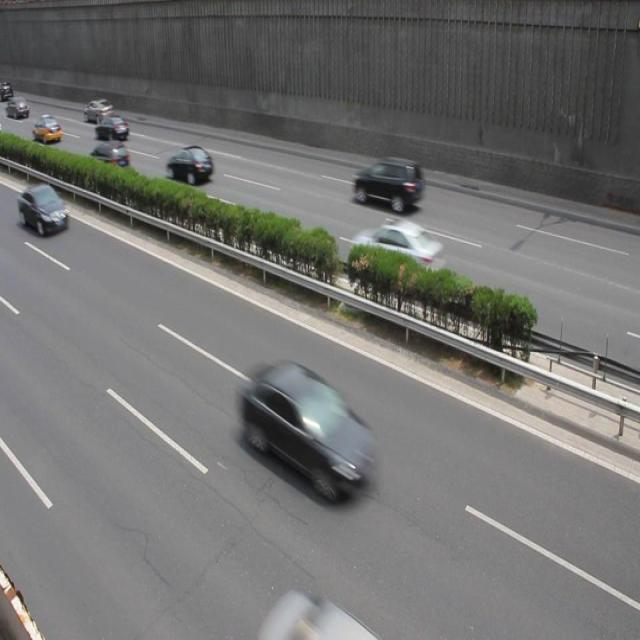car: (240, 360, 379, 502), (351, 218, 444, 296), (350, 153, 424, 213), (19, 182, 69, 240), (85, 140, 133, 184), (164, 147, 213, 186), (95, 114, 129, 144), (32, 114, 63, 144), (84, 100, 116, 125)
